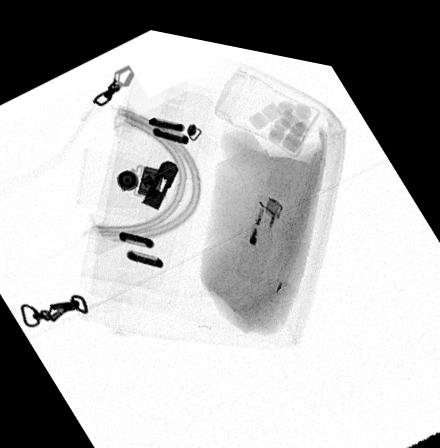Lighter: (234, 184, 283, 272)
